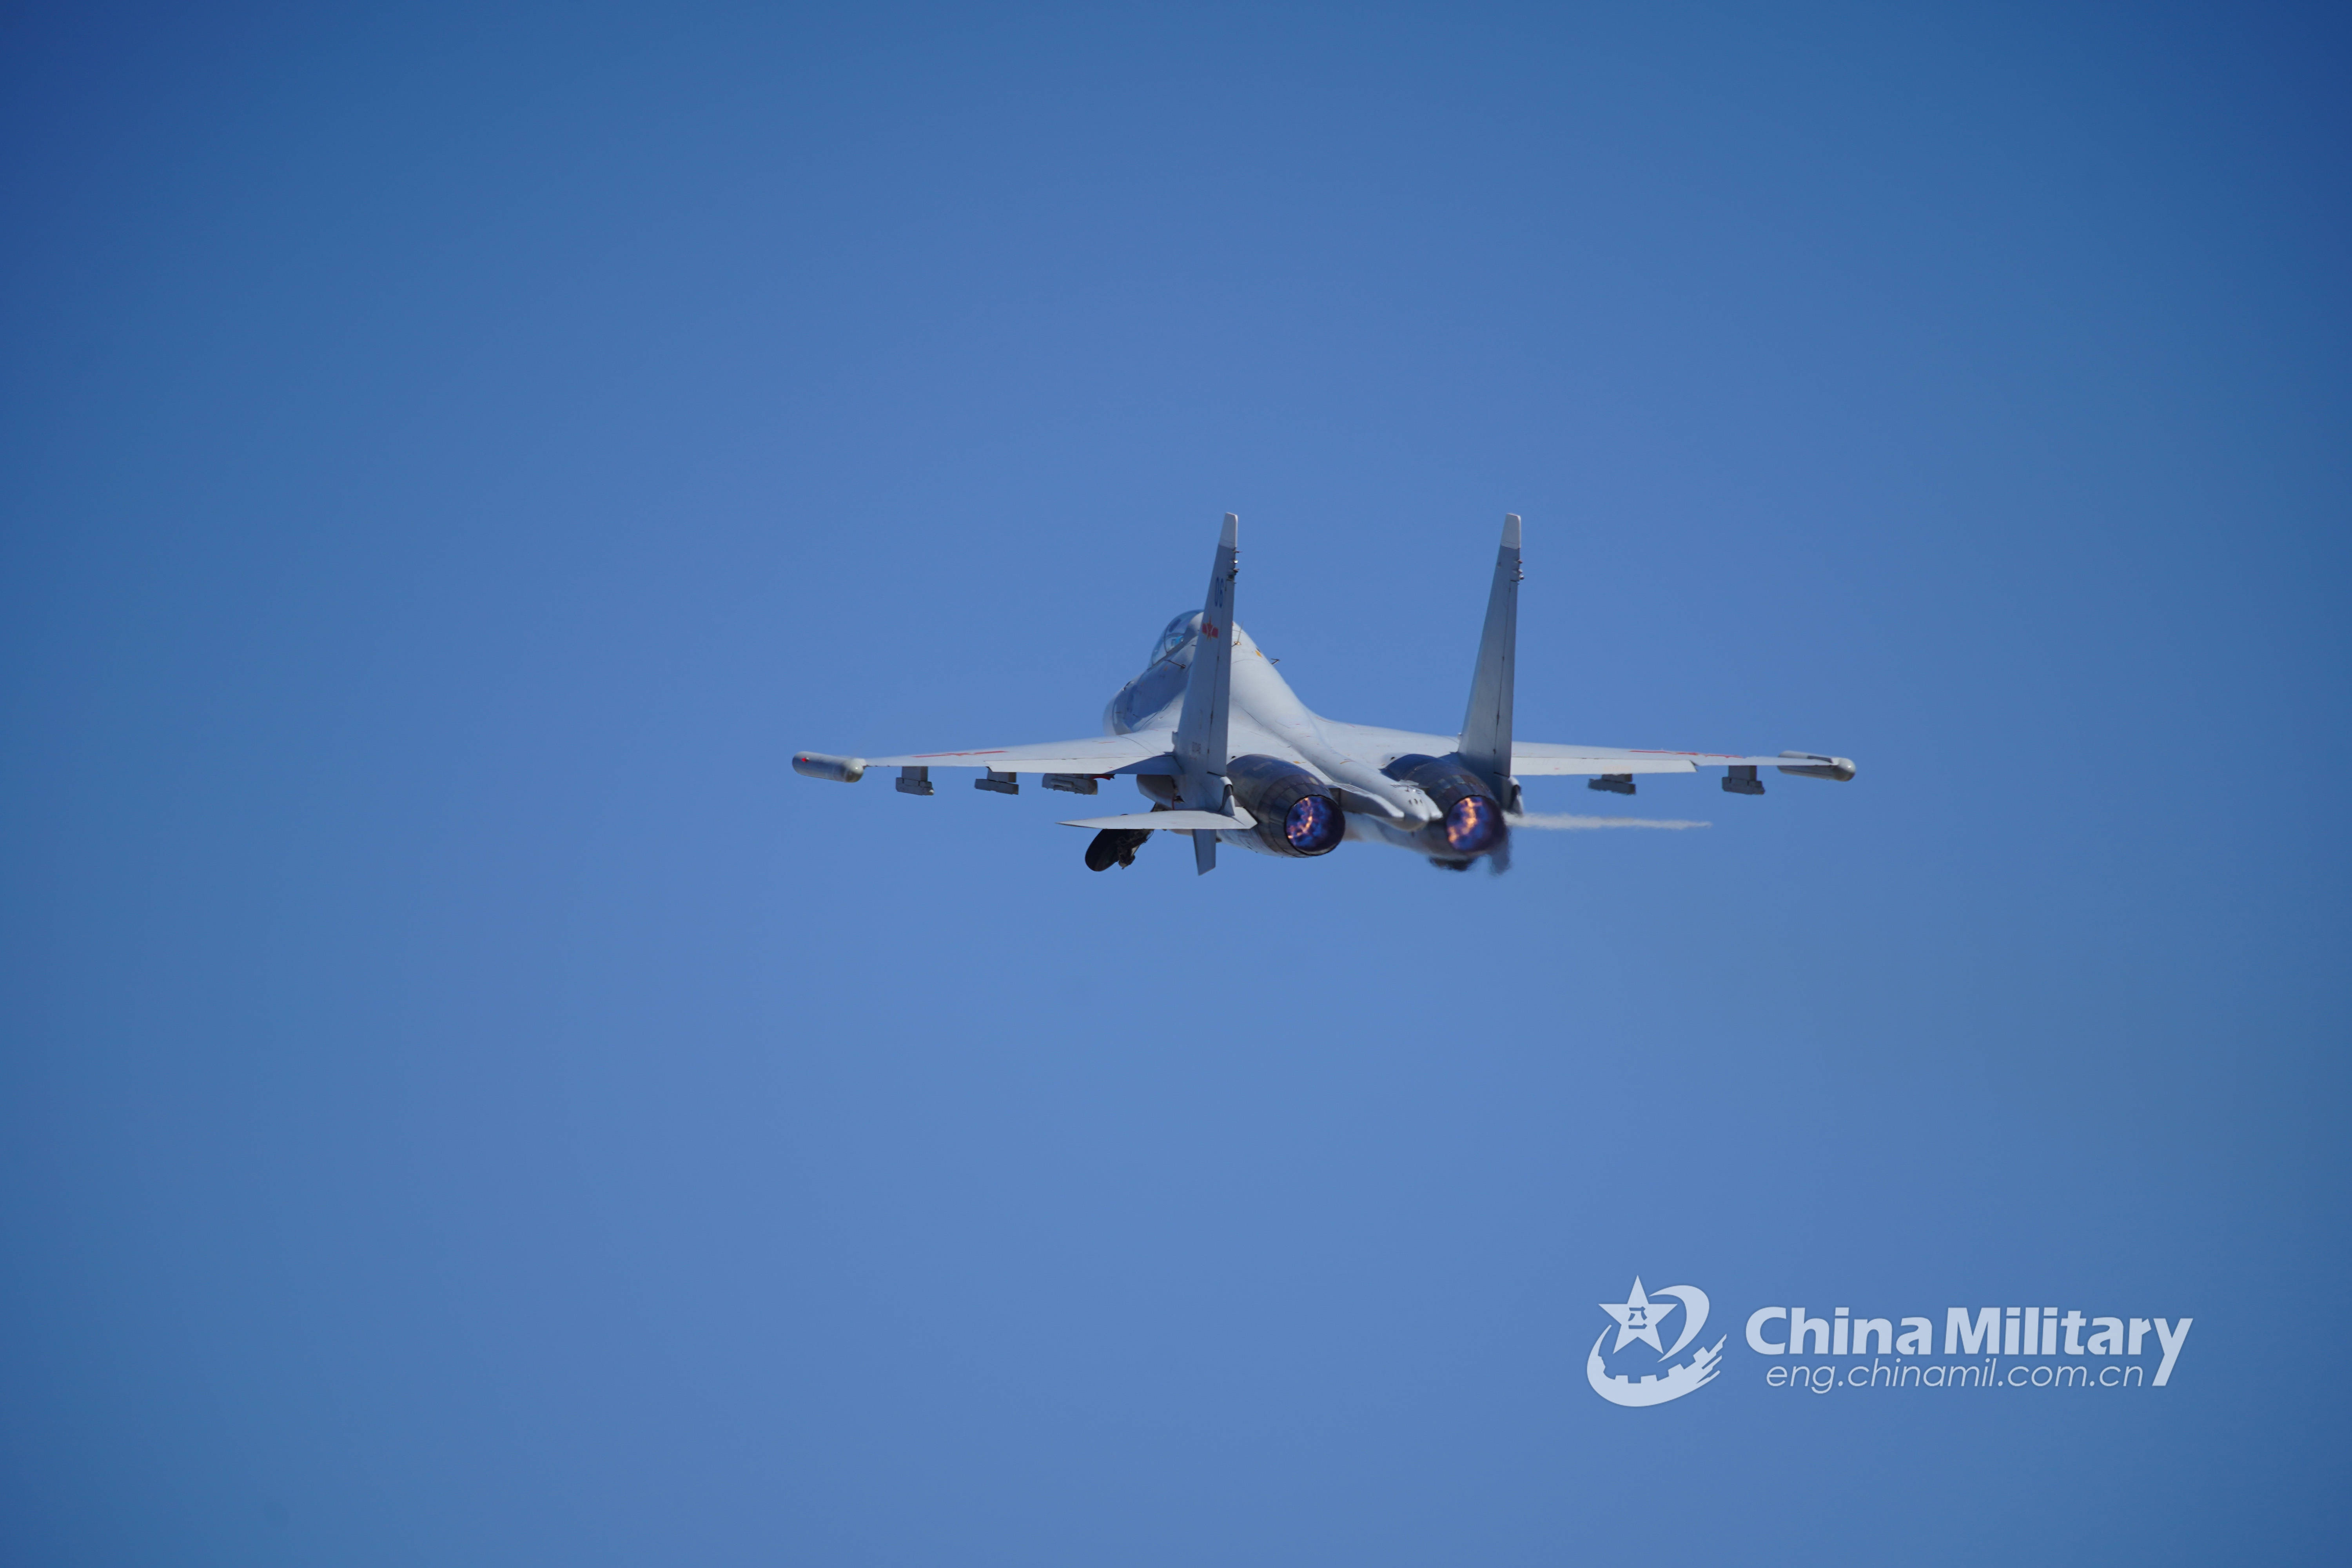airplane: (777, 499, 1858, 863)
